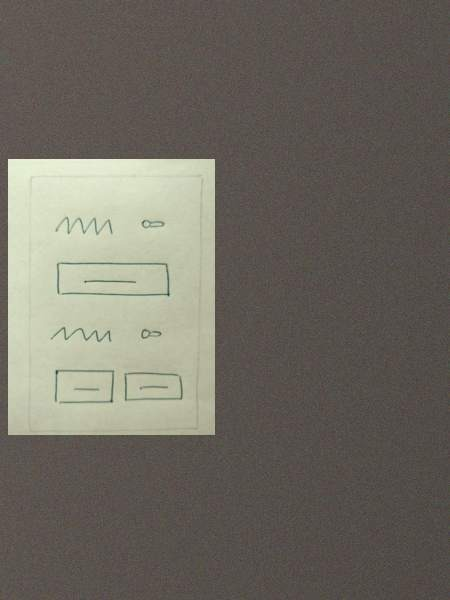button: (52, 259, 179, 304), (51, 368, 119, 409), (121, 370, 188, 406)
switch: (134, 322, 169, 345), (138, 217, 174, 234)
text: (47, 322, 119, 353), (49, 212, 123, 240)
